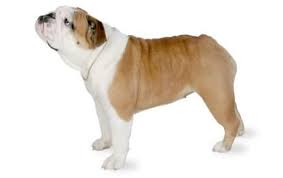Bulldog: (26, 3, 258, 171)
